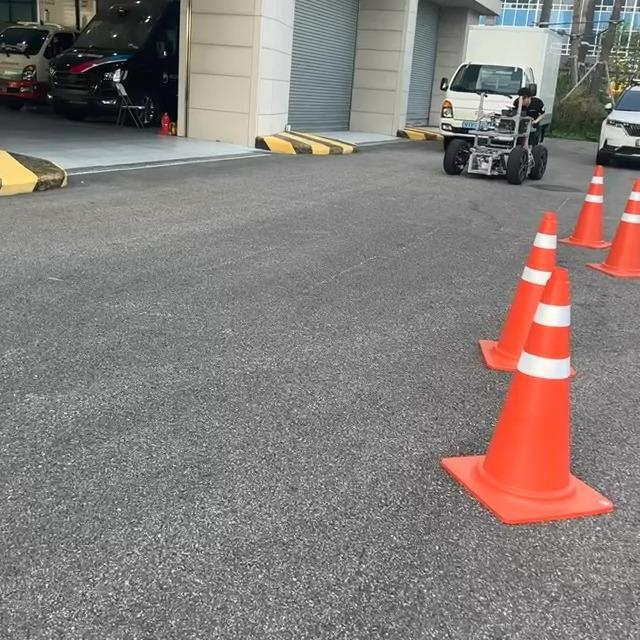fallen_object: (437, 279, 624, 531), (422, 187, 582, 387), (554, 147, 640, 292)
